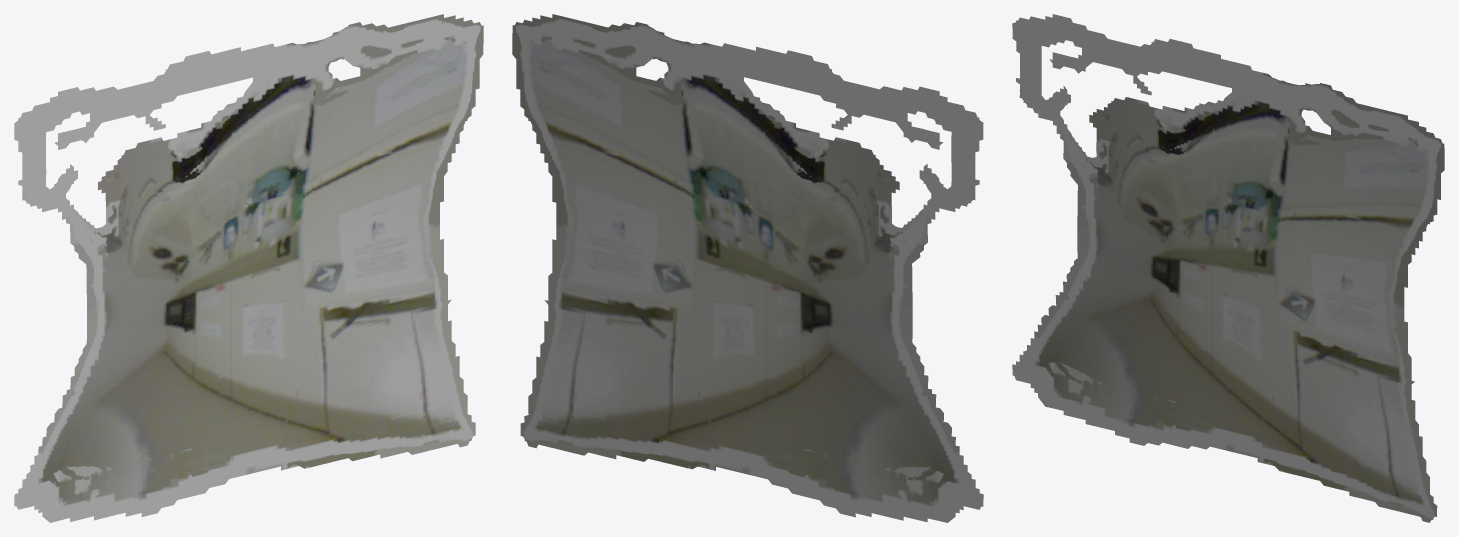
The picture shows the model from 3 angles, left to right: view 1: azimuth 30°, elevation 25°; view 2: azimuth 150°, elevation 25°; view 3: azimuth 330°, elevation 25°; orthographic projection. The views are drawn at different scales.
Bounding box in the file's own units: 13779 × 12845 × 86.67.
